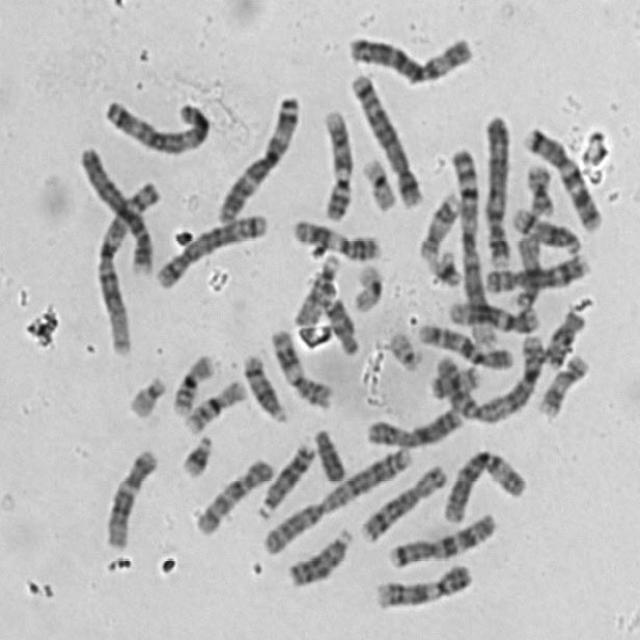A1: (90, 174, 161, 357), (446, 140, 499, 355)
A2: (258, 441, 417, 556), (431, 327, 546, 425)
A3: (213, 88, 303, 225), (100, 92, 214, 156)
B4: (75, 139, 156, 278), (481, 109, 514, 269)
B5: (346, 66, 426, 210), (150, 207, 270, 290)
C10: (189, 451, 276, 538), (414, 318, 517, 372)
C11: (267, 322, 337, 410), (288, 213, 384, 262)
C12: (100, 443, 160, 551), (444, 294, 542, 334)
C6: (344, 28, 478, 86), (439, 443, 530, 525)
C7: (518, 120, 606, 234), (385, 507, 499, 569)
C8: (356, 458, 450, 545), (480, 247, 592, 294)
C9: (371, 558, 476, 611), (317, 103, 357, 223)
D13: (252, 436, 319, 521), (283, 521, 356, 589)
D14: (507, 202, 583, 256), (238, 348, 290, 424)
D15: (290, 251, 344, 328), (509, 228, 545, 311)
E16: (180, 373, 249, 435), (167, 348, 218, 417)
E17: (534, 349, 591, 420), (415, 188, 464, 262)
E18: (542, 304, 588, 370), (320, 292, 361, 357)
F19: (357, 151, 399, 212), (348, 259, 387, 314)
F20: (426, 362, 484, 400), (522, 158, 557, 218)
G21: (176, 429, 216, 480), (427, 244, 464, 288)
G22: (124, 369, 169, 421), (385, 326, 423, 372)
X: (361, 402, 465, 450)
Y: (309, 423, 349, 485)
